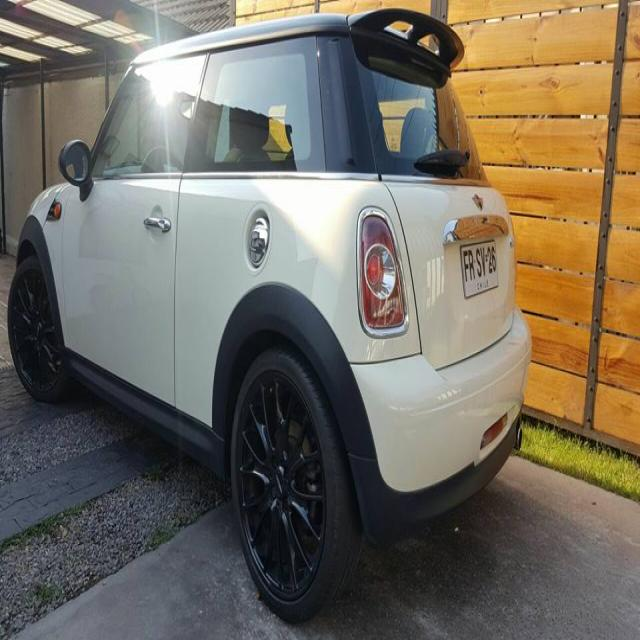patente: (459, 238, 499, 299)
